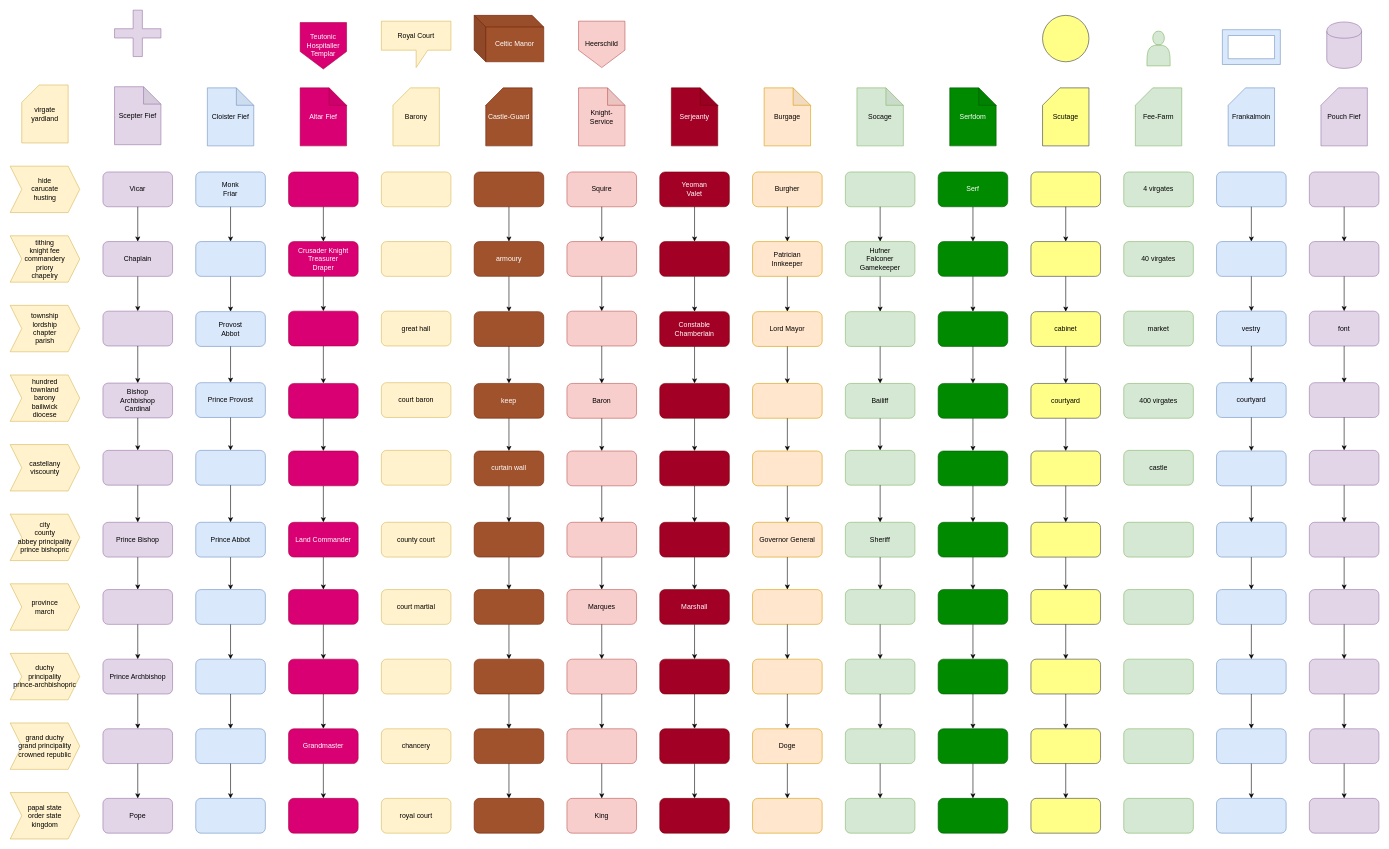
Image size: 1389x849. Some labels were removed from this diagram. The centre of each missing label's shape, as x and y in pixels:
altar: [1344,258]
Castellan: [601,468]
cathedra: [1344,399]
catholic: [137,33]
cloister: [1251,258]
Cottar: [880,189]
Crusader Sergeant Chaplain Brother: [323,189]
Duke Prince: [601,676]
Earl: [601,539]
Florin: [1065,38]
Grand Duke Archduke: [601,746]
guest hall workshop parlour: [1065,258]
House Commander: [323,328]
Knight: [601,258]
Knight Commander: [323,468]
Lieutenant Governor: [787,468]
Lord: [601,328]
Lord Warden: [787,400]
Master Commander: [323,676]
outer wall: [509,539]
Priest Chancellor: [137,328]
Prior: [230,258]
Reeve: [880,328]
Sergeant-at-Arms Butler Panter: [694,258]
